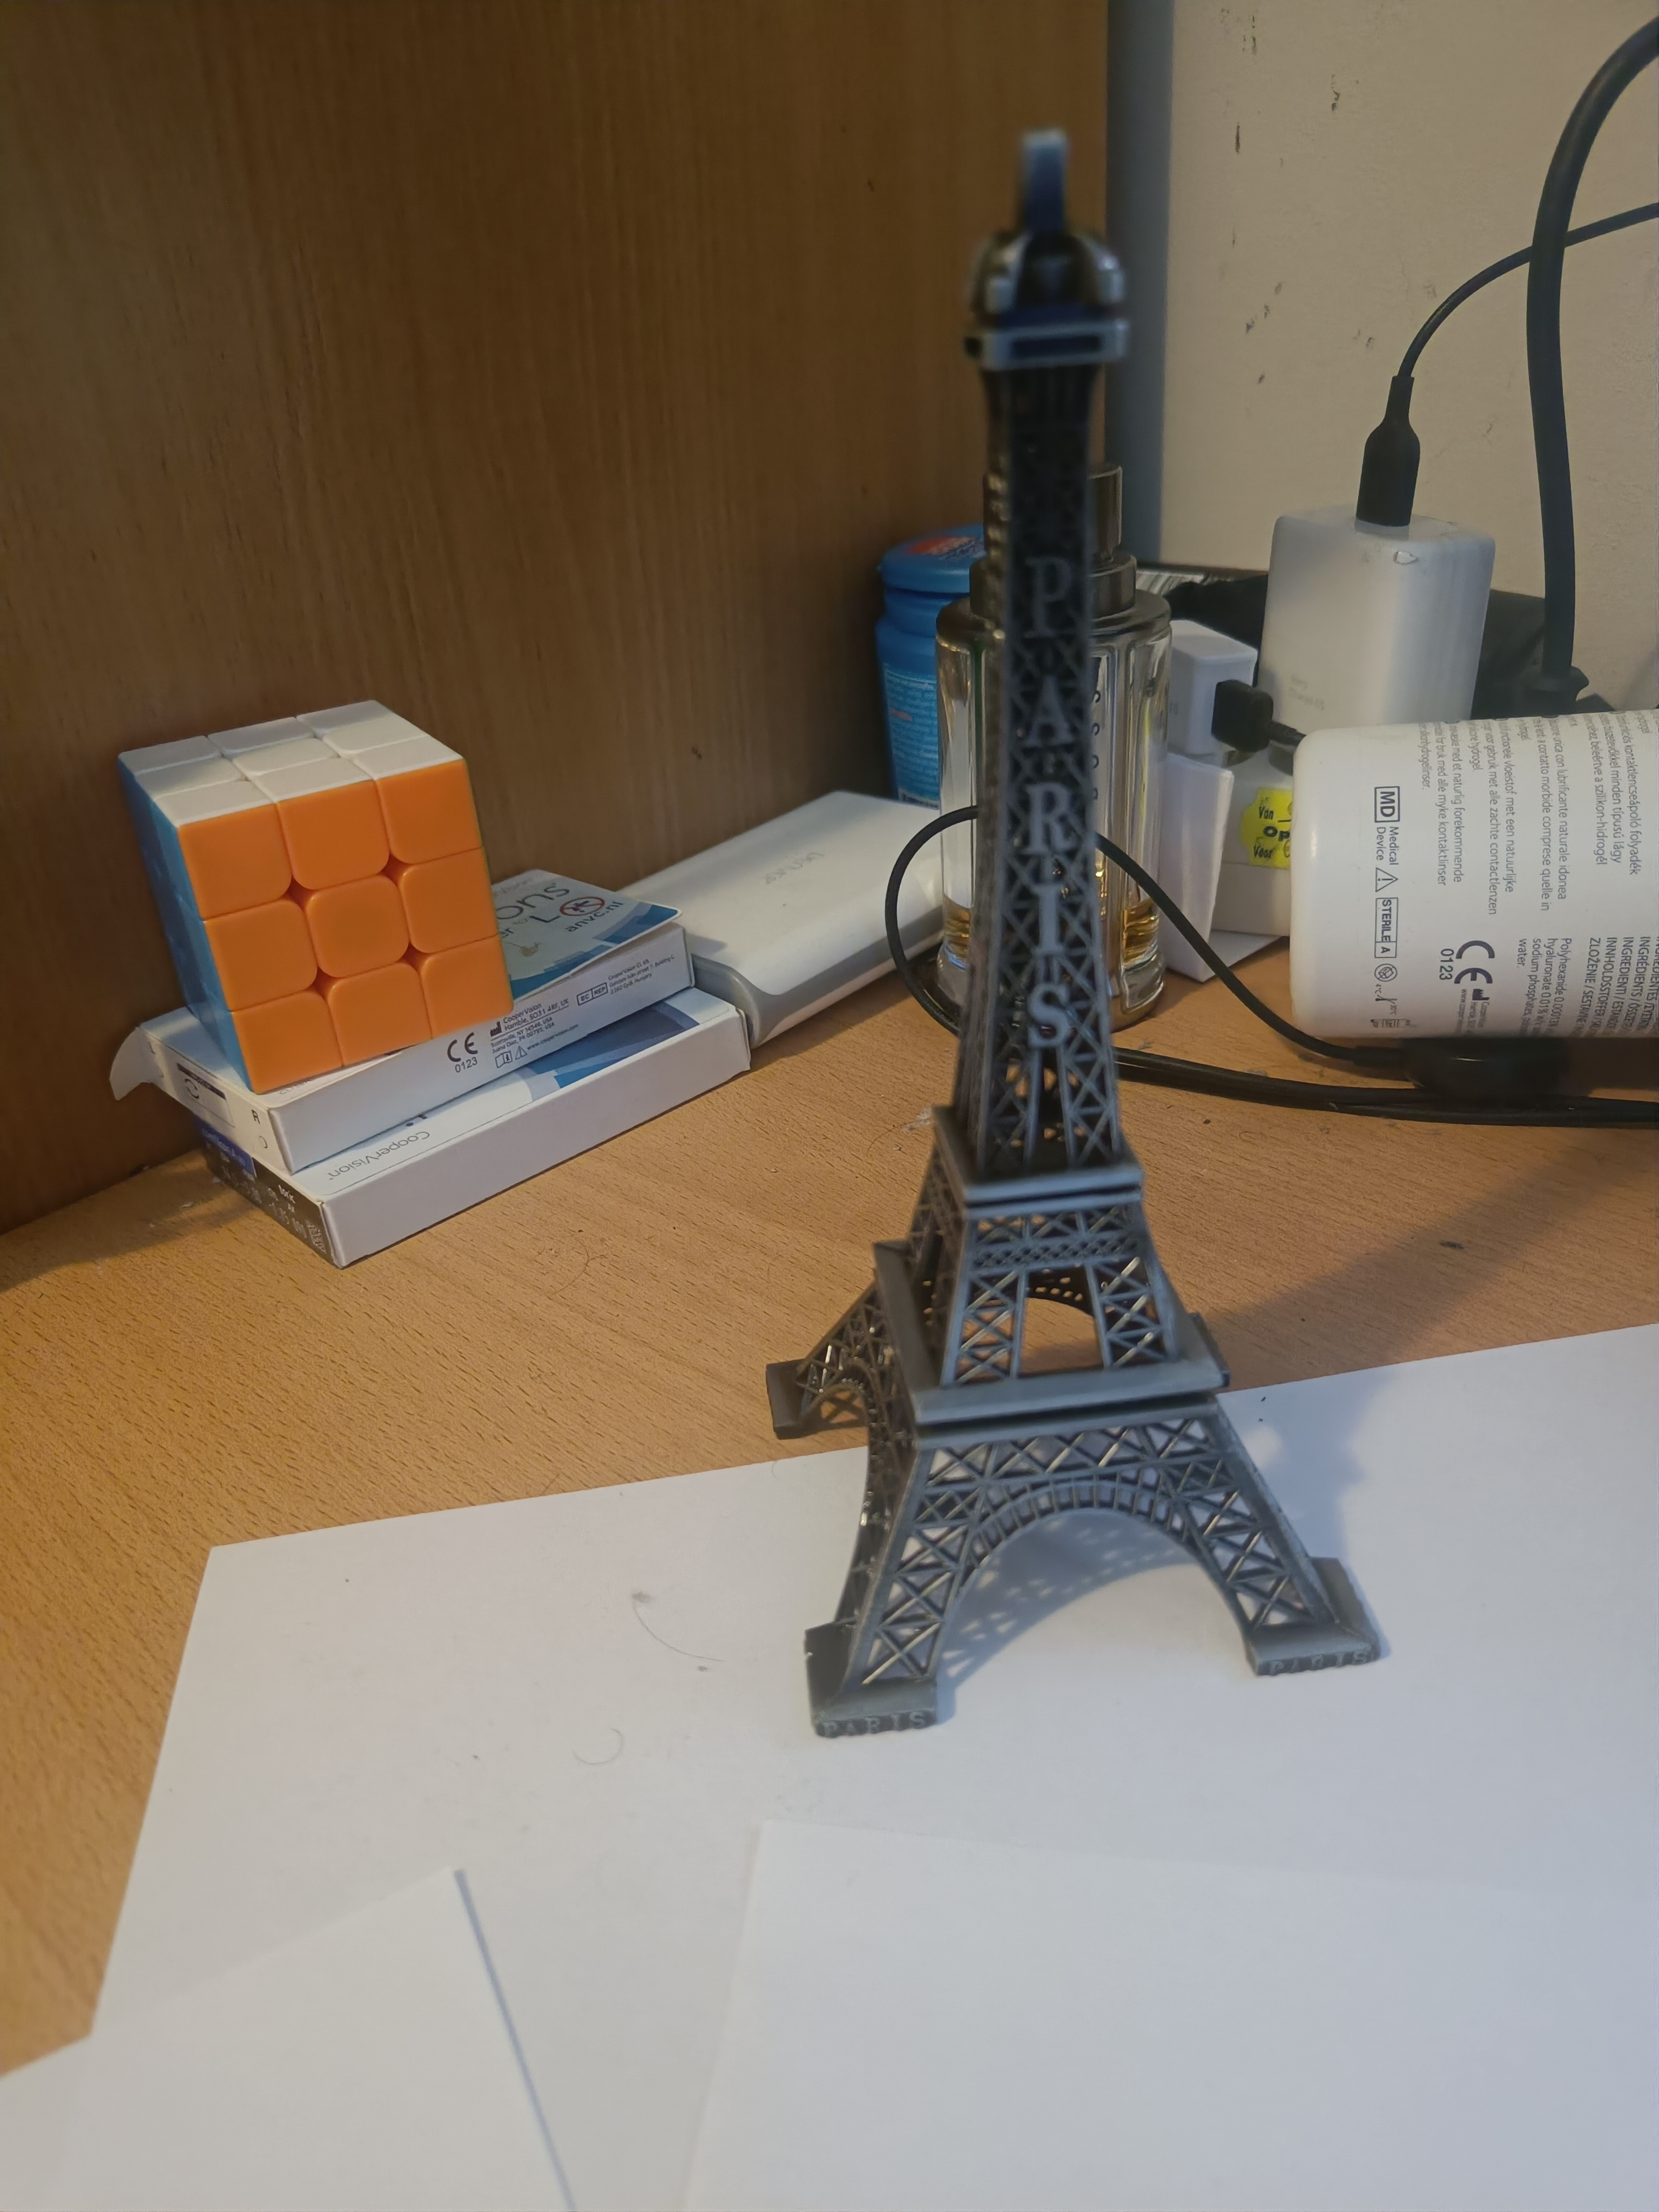Eiffel Tower: (739, 114, 1395, 1759)
Rubiks Cube: (104, 661, 521, 1103)
